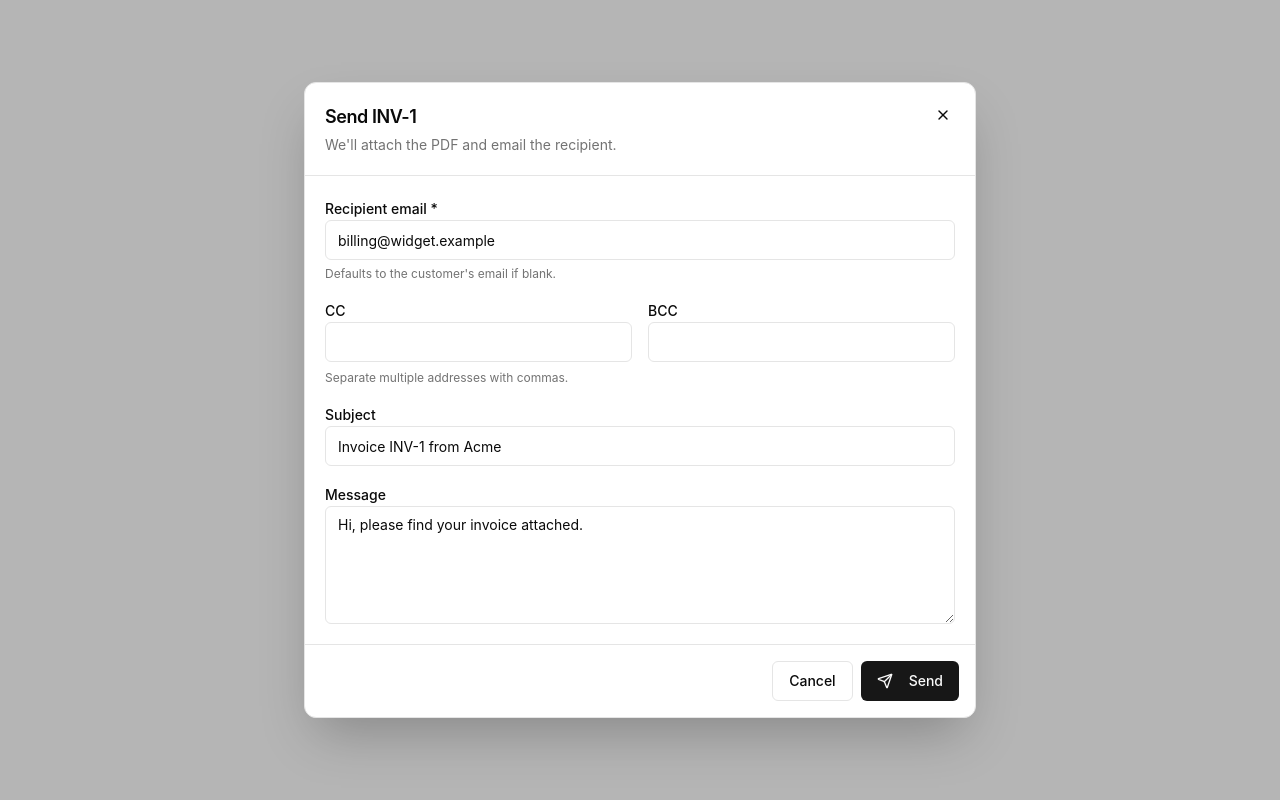
Test: SendInvoiceDialog › rejects an invalid CC address and does not submit
Expected: the field showing "Invoice INV-1 from Acme" is shown, 325,426 -> 955,466
Type "not-an-email" into the field labelled "CC". click: [478, 342]
box: 325,322 -> 632,362
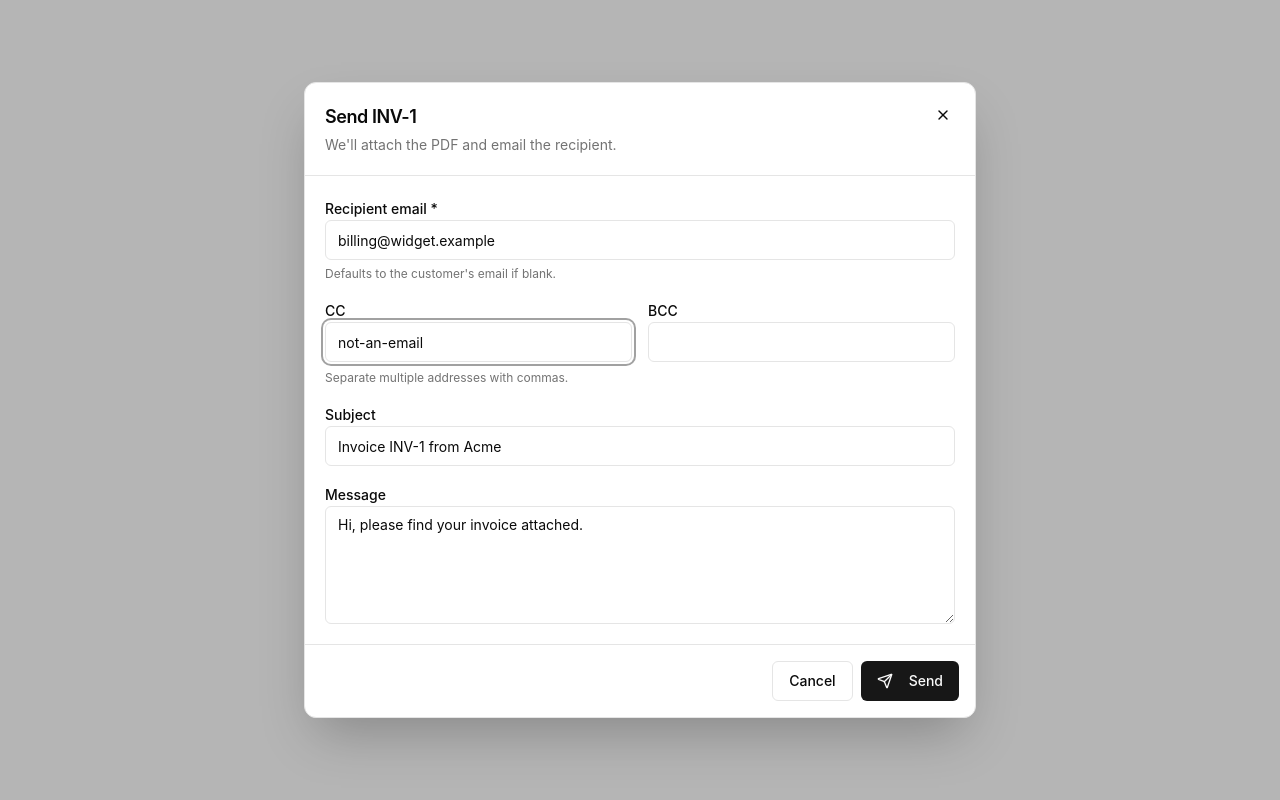
Click the button "Send". click: [910, 681]
box: 861,661 -> 959,701
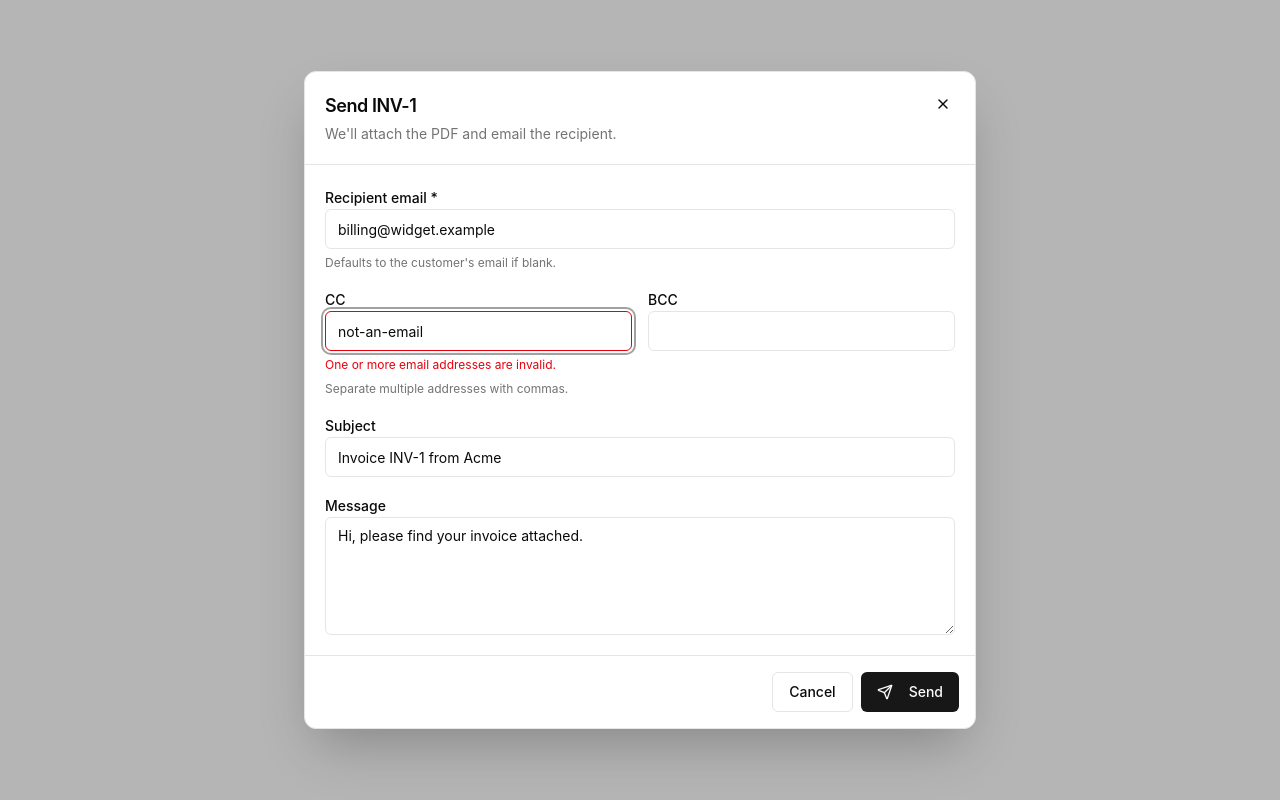
Expected: the text "One or more email addresses are invalid." is shown, 325,357 -> 556,372
